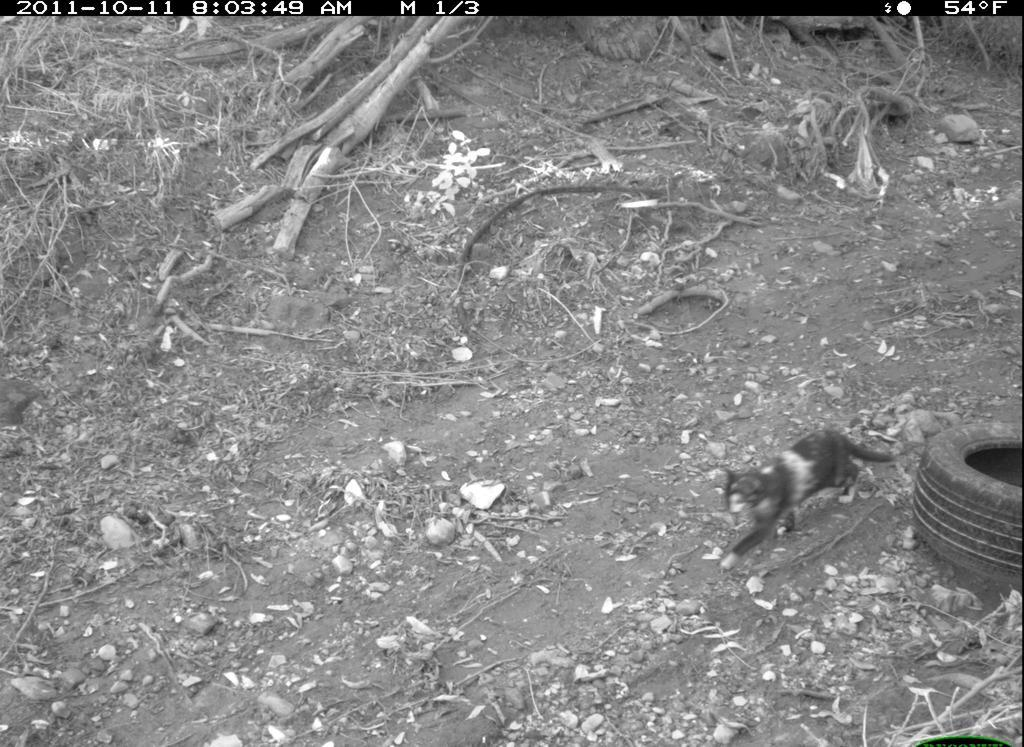cat: (697, 418, 904, 577)
